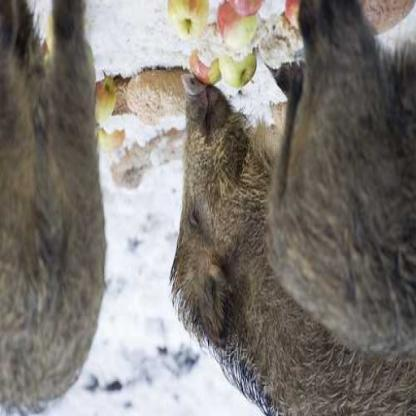boar: (149, 1, 415, 416), (271, 17, 415, 363), (0, 5, 120, 416)
